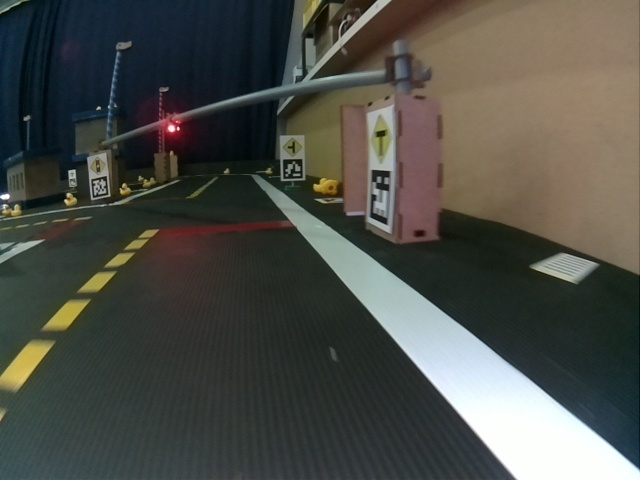Duckie: (314, 177, 338, 194), (119, 183, 132, 196), (63, 194, 78, 205), (10, 206, 20, 215), (143, 178, 152, 188), (223, 169, 233, 177), (264, 168, 272, 177)
Intersection sign: (369, 115, 392, 162), (283, 138, 302, 156)
QR code: (370, 169, 392, 227), (282, 161, 303, 179), (92, 177, 107, 197)
Signal sign: (89, 156, 105, 175)
Traffic light: (163, 111, 178, 135)
